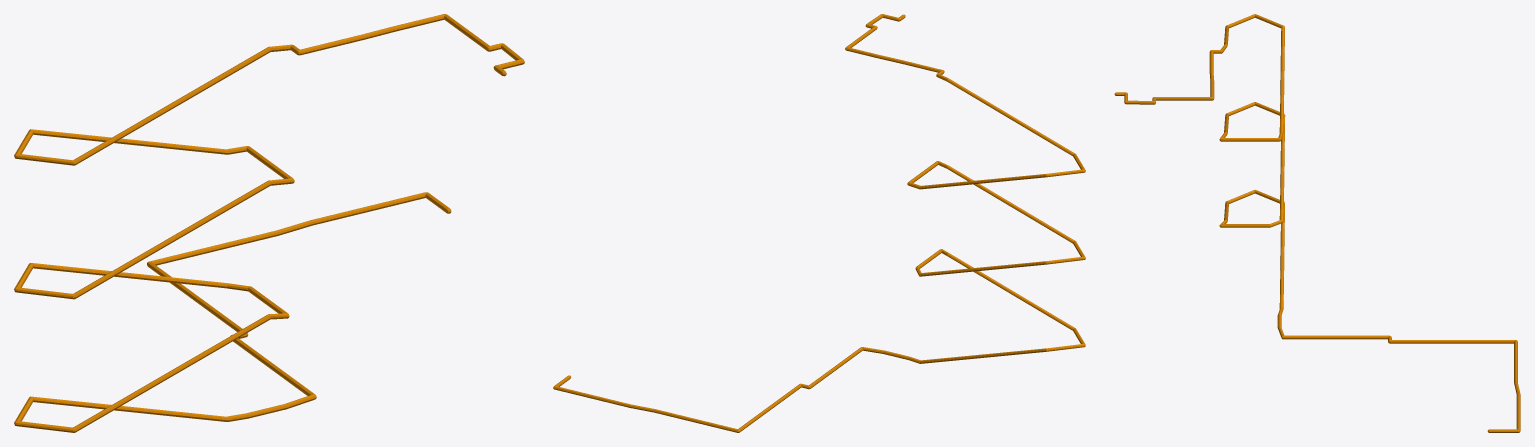
3 renders of one model, left to right at view 1: azimuth 30°, elevation 25°; view 2: azimuth 150°, elevation 25°; view 3: azimuth 270°, elevation 25°, orthographic. The views are drawn at different scales.
Bounding box in the file's own units: 2408 × 1520 × 2094.
